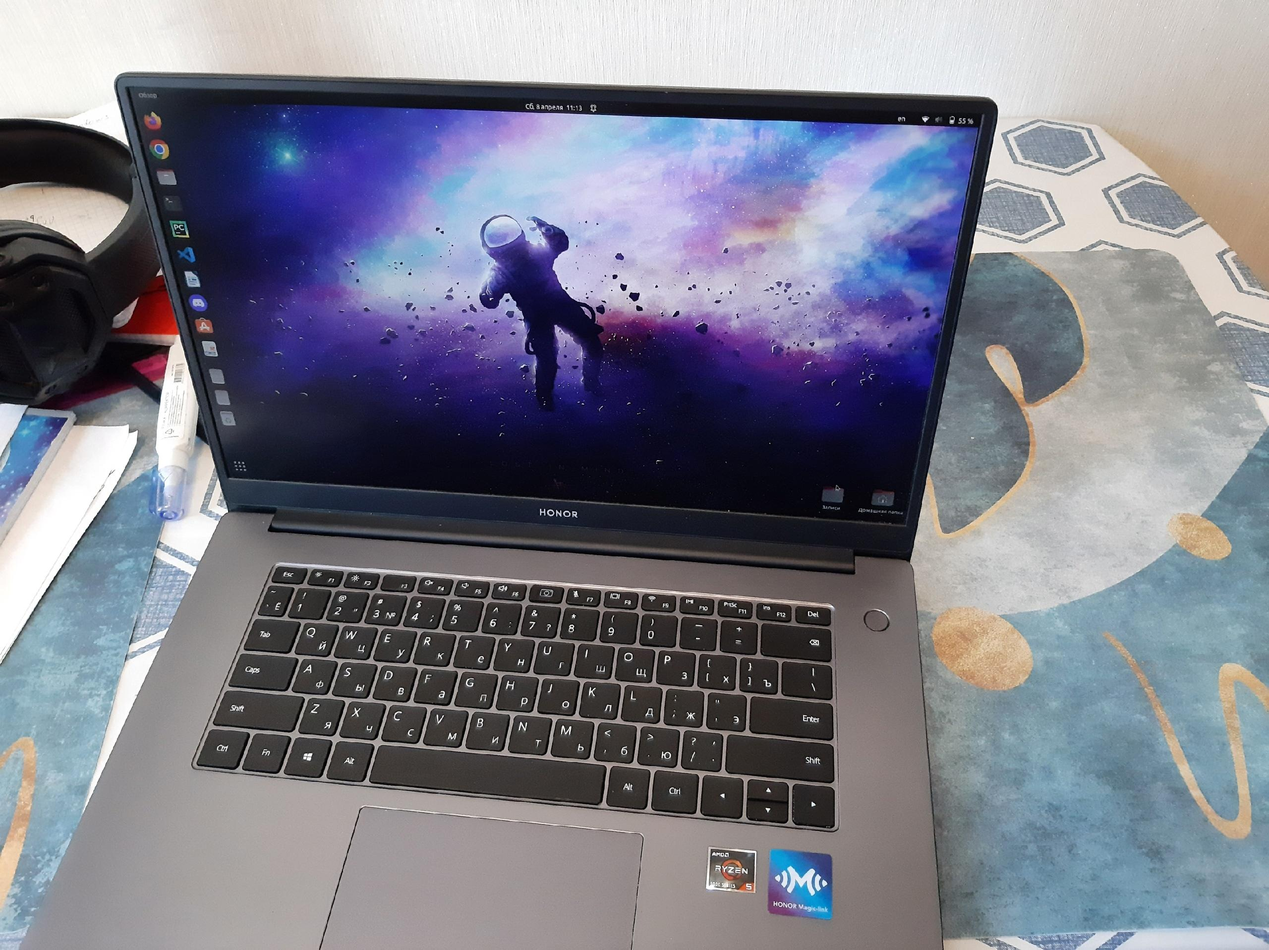monitor: (109, 70, 999, 572)
